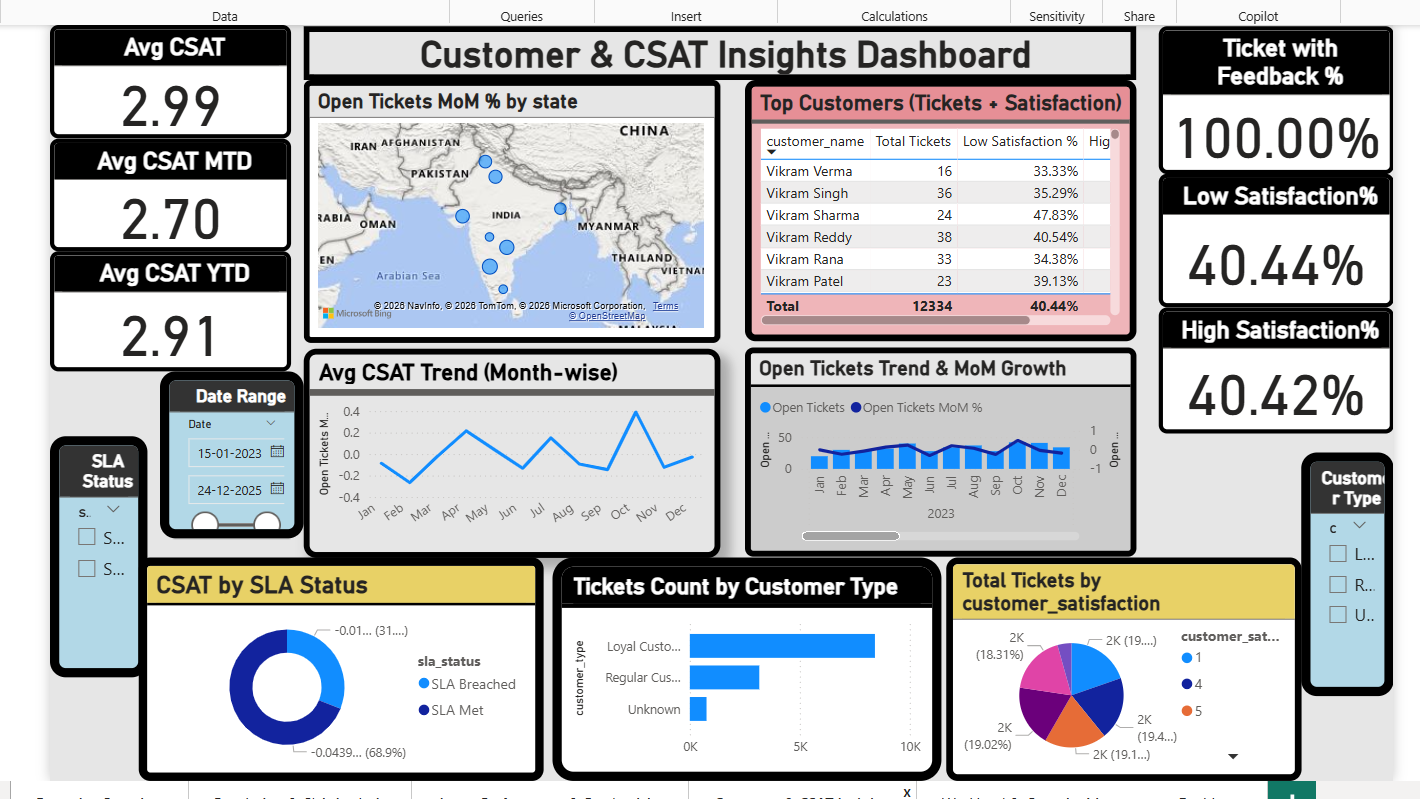

What the dashboard file says about the page in this screenshot:
{"tool":"powerbi","page":{"name":"Customer & CSAT Insights ","canvas":[1280,720],"ordinal":3},"visuals":[{"type":"textbox","title":"Customer & CSAT Insights Dashboard","box":[241.7,1.2,792.9,51.2],"z":0},{"type":"slicer","title":"Date Range","fields":{"Values":["DateTable.Date"]},"box":[104.8,329.8,136.9,159.5],"z":1000},{"type":"slicer","title":"Customer Type","fields":{"Values":["customers.customer_type"]},"box":[1191.7,407.1,88.1,232.1],"z":2000},{"type":"slicer","title":"SLA Status","fields":{"Values":["tickets.sla_status"]},"box":[0,391.7,92.9,229.8],"z":3000},{"type":"card","title":"Avg CSAT","fields":{"Values":["all_measures.Avg CSAT"]},"box":[0,0,229.8,108.3],"z":4000},{"type":"card","title":"Avg CSAT MTD","fields":{"Values":["all_measures.Avgs CSAT MTD"]},"box":[0,108.3,229.8,107.1],"z":5000},{"type":"card","title":"Avg CSAT YTD","fields":{"Values":["all_measures.Avgs CSAT YTD"]},"box":[0,215.5,229.8,114.3],"z":6000},{"type":"card","title":"High Satisfaction%","fields":{"Values":["all_measures.High Satisfactions %"]},"box":[1056,269,223.8,120.2],"z":7000},{"type":"card","title":"Low Satisfaction%","fields":{"Values":["all_measures.Low Satisfactions %"]},"box":[1056,141.7,223.8,127.4],"z":8000},{"type":"card","title":"Ticket with Feedback %","fields":{"Values":["all_measures.Tickets With Feedback %"]},"box":[1056,1.2,223.8,140.5],"z":9000},{"type":"lineChart","title":"Avg CSAT Trend (Month-wise)","fields":{"Category":["DateTable.MonthName"],"Y":["all_measures.Avg CSAT"]},"box":[241.7,308.3,396.4,198.8],"z":10000},{"type":"donutChart","title":"CSAT by SLA Status","fields":{"Category":["tickets.sla_status"],"Y":["all_measures.Avg CSAT"]},"box":[84.5,507.1,385.7,213.1],"z":11000},{"type":"clusteredBarChart","title":"Tickets Count by Customer Type","fields":{"Category":["customers.customer_type"],"Y":["all_measures.Total Tickets"]},"box":[478.6,507.1,370.2,213.1],"z":12000},{"type":"map","fields":{"Category":["customers.state"],"Size":["all_measures.Avg CSAT"]},"box":[241.7,52.4,396.4,250],"z":13000},{"type":"pieChart","fields":{"Category":["tickets.customer_satisfaction"],"Y":["all_measures.Total Tickets"]},"box":[853.6,507.1,338.1,213.1],"z":14000},{"type":"tableEx","title":"Top Customers (Tickets + Satisfaction)","fields":{"Values":["customers.customer_name","all_measures.Total Tickets","all_measures.Low Satisfactions %","all_measures.High Satisfactions %"]},"box":[661.9,52.4,372.6,248.8],"z":15000},{"type":"lineClusteredColumnComboChart","title":"Open Tickets Trend & MoM Growth","fields":{"Category":["DateTable.Date.Variation.Date Hierarchy.Year","DateTable.MonthName"],"Y":["all_measures.Open Tickets"],"Y2":["all_measures.Open Tickets MoM %"]},"box":[661.9,307.1,372.6,198.8],"z":16000}]}

Visuals, with their boxes in screenshot pixels (x1, y1, x2, y2):
"Customer & CSAT Insights Dashboard" textbox: <bbox>296, 20, 1132, 74</bbox>
"Date Range" slicer: <bbox>151, 367, 296, 535</bbox>
"Customer Type" slicer: <bbox>1298, 448, 1391, 693</bbox>
"SLA Status" slicer: <bbox>41, 432, 139, 674</bbox>
"Avg CSAT" card: <bbox>41, 18, 283, 133</bbox>
"Avg CSAT MTD" card: <bbox>41, 133, 283, 246</bbox>
"Avg CSAT YTD" card: <bbox>41, 246, 283, 367</bbox>
"High Satisfaction%" card: <bbox>1155, 302, 1391, 429</bbox>
"Low Satisfaction%" card: <bbox>1155, 168, 1391, 302</bbox>
"Ticket with Feedback %" card: <bbox>1155, 20, 1391, 168</bbox>
"Avg CSAT Trend (Month-wise)" lineChart: <bbox>296, 344, 714, 554</bbox>
"CSAT by SLA Status" donutChart: <bbox>130, 554, 537, 778</bbox>
"Tickets Count by Customer Type" clusteredBarChart: <bbox>546, 554, 936, 778</bbox>
map - customers.state x all_measures.Avg CSAT: <bbox>296, 74, 714, 338</bbox>
pieChart - tickets.customer_satisfaction x all_measures.Total Tickets: <bbox>941, 554, 1298, 778</bbox>
"Top Customers (Tickets + Satisfaction)" tableEx: <bbox>739, 74, 1132, 336</bbox>
"Open Tickets Trend & MoM Growth" lineClusteredColumnComboChart: <bbox>739, 343, 1132, 552</bbox>
